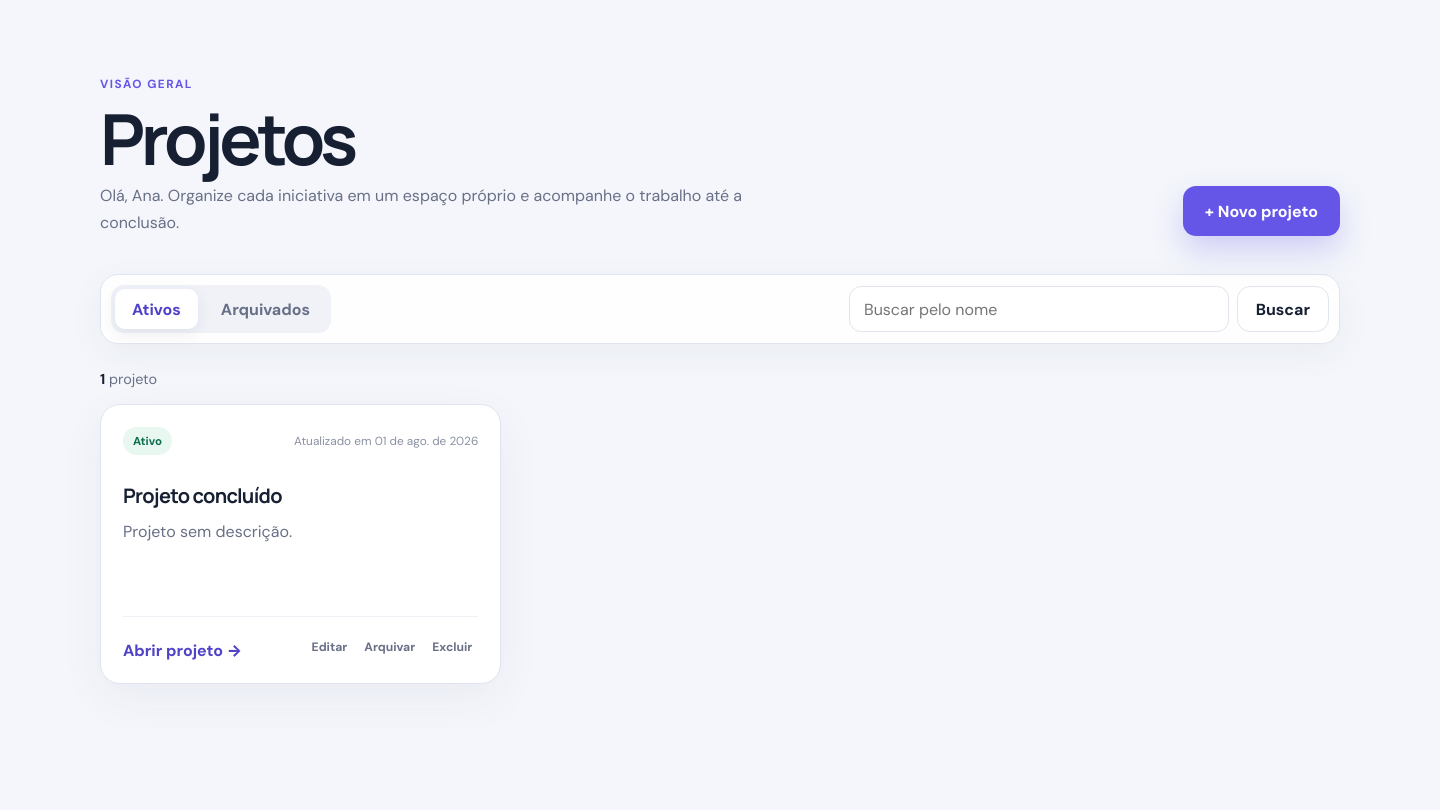
Test case: ProjectsPage › archives a project and removes it from the active list
Click the button "Arquivar" at (390, 647), box [358, 633, 421, 661]
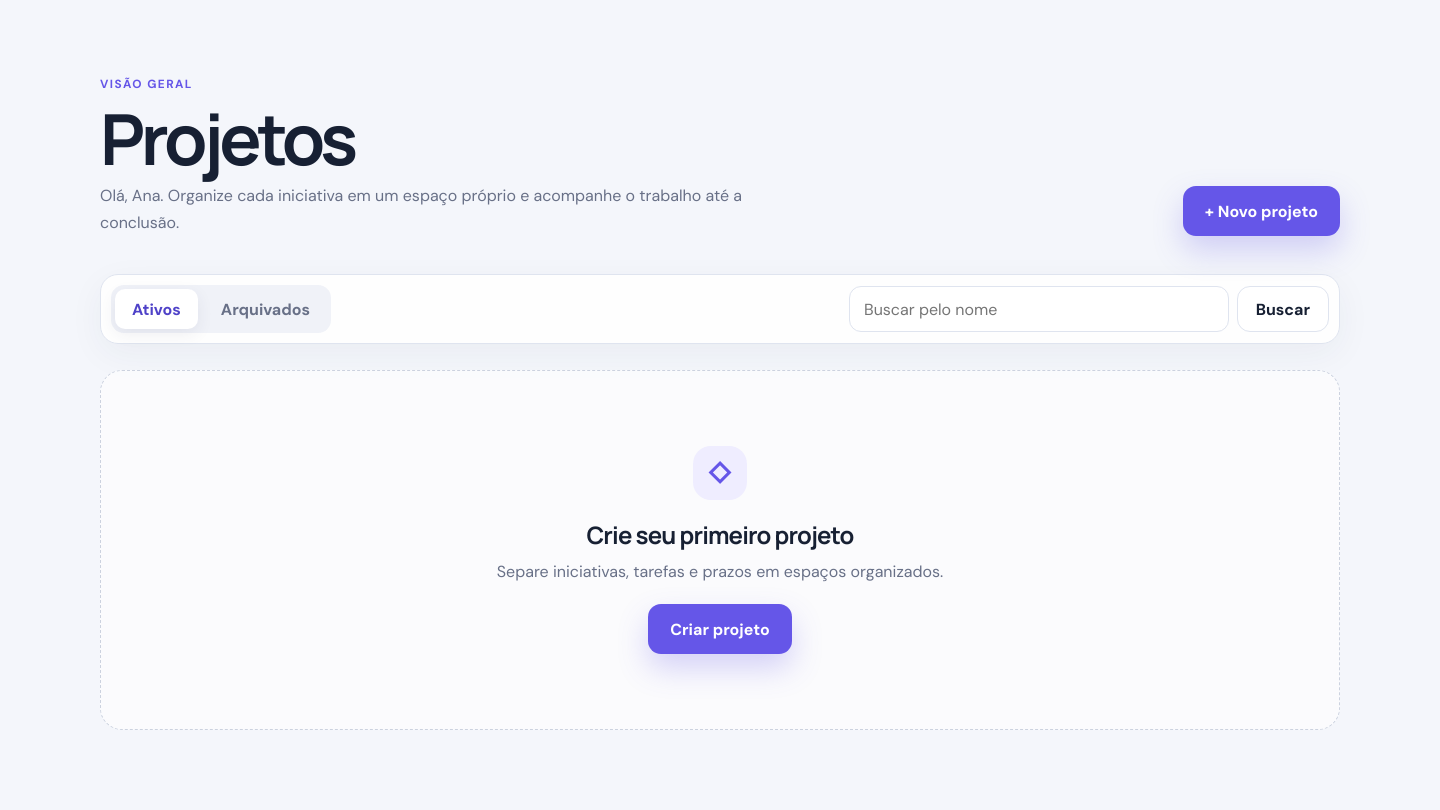
Expected: the heading "Crie seu primeiro projeto" is shown, [586, 518, 854, 551]
Expected: the heading "Projeto concluído" is gone
